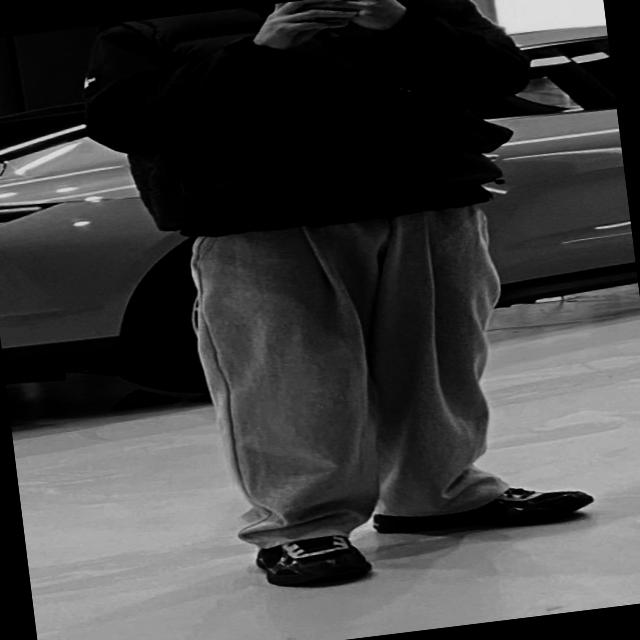padding: (104, 0, 528, 237)
trainingpants: (172, 182, 528, 556)
